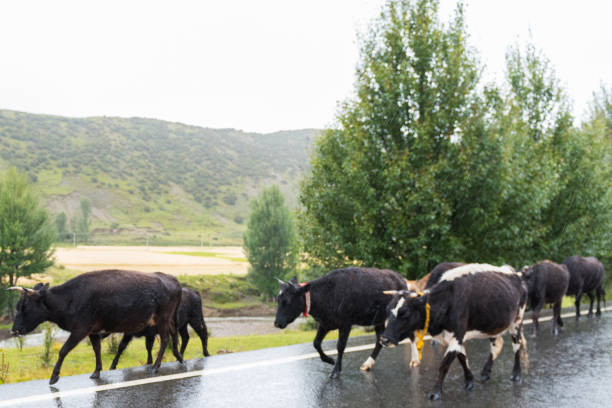inek: (2, 266, 184, 383), (380, 263, 529, 397), (267, 264, 409, 387), (556, 244, 612, 323), (510, 263, 565, 332)
